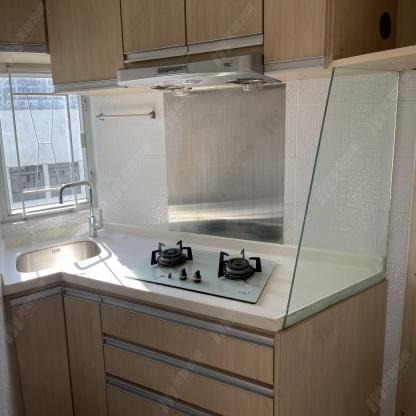Cupboard: (13, 280, 388, 416), (0, 0, 328, 93)
Exhaust Hood: (115, 52, 283, 98)
Faucet: (56, 181, 110, 238)
Sink: (14, 240, 100, 272)
Stove: (126, 237, 277, 302)
